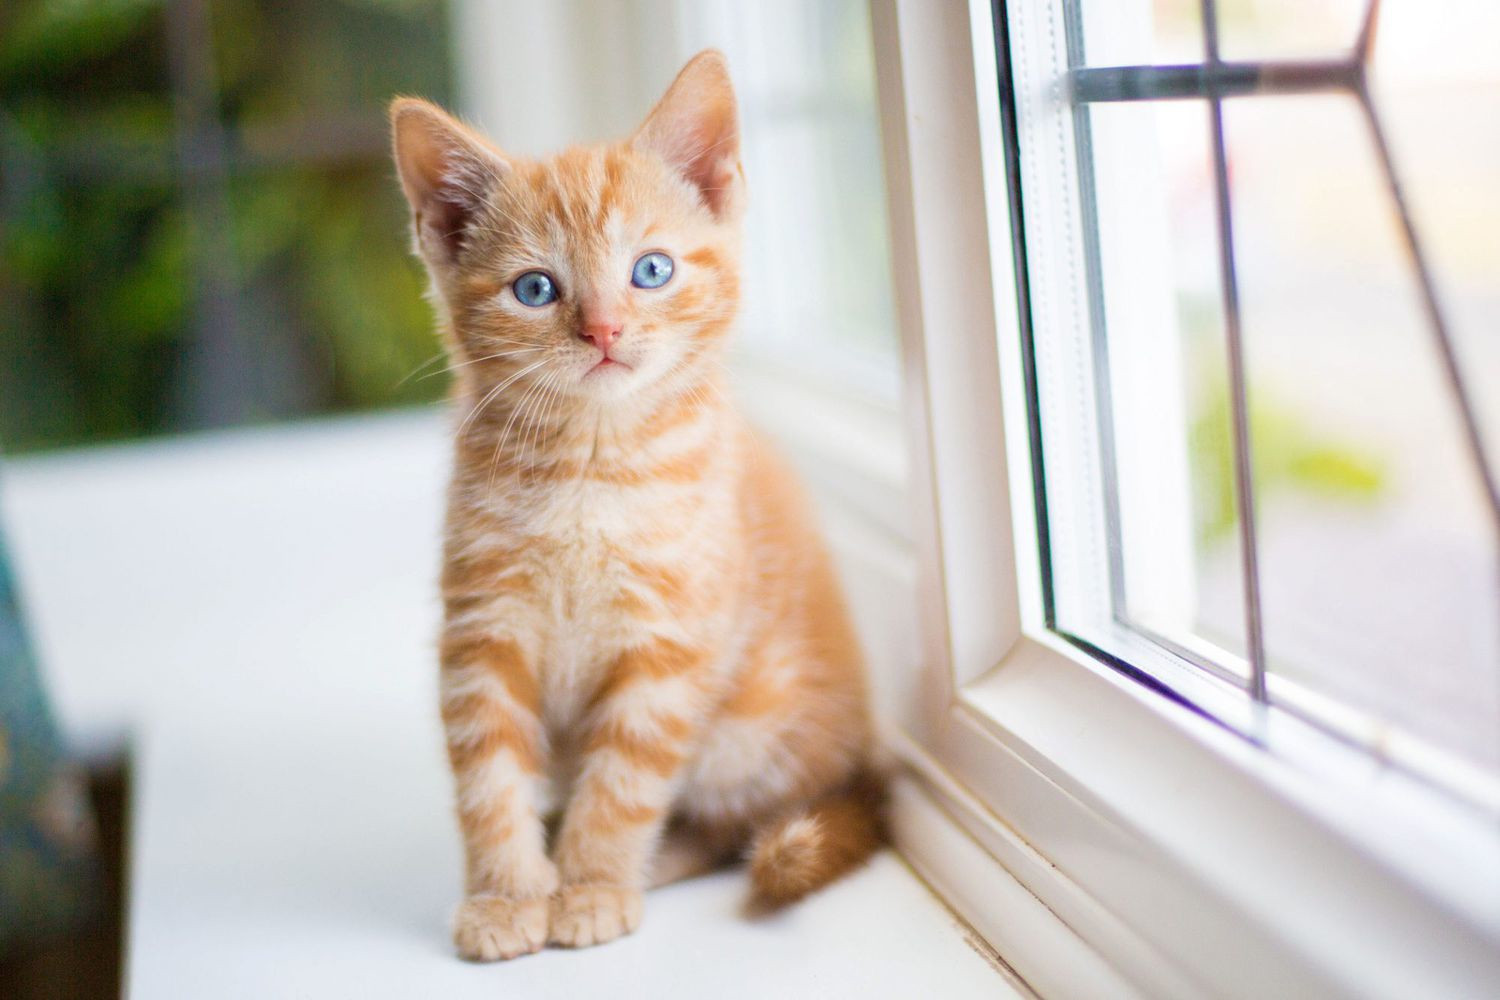cat: (386, 48, 883, 967)
